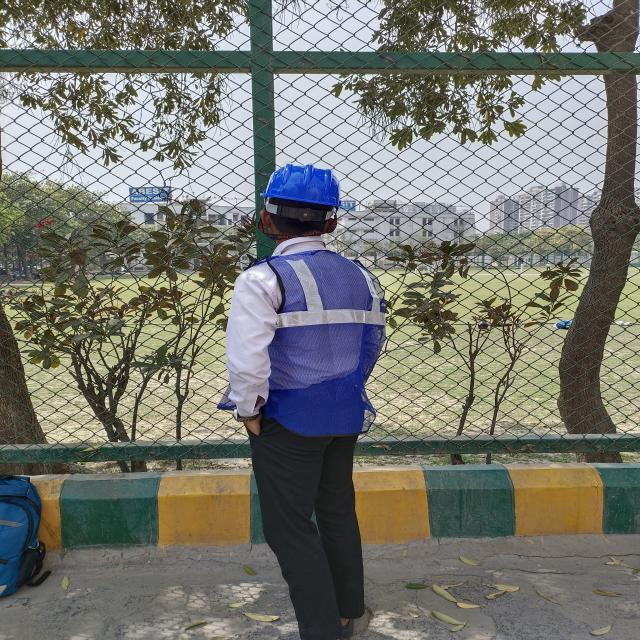safe: (217, 164, 387, 640)
